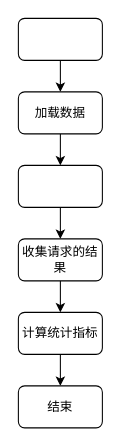
Some shapes in this 121 by 446 pixel diagram are drawn without their labels. The shapes that lost their labels are listed below. From the top down, each one's centre as x and y in pixels, then its label:
At point (59, 38): "开始".
At point (59, 185): "执行请求".
